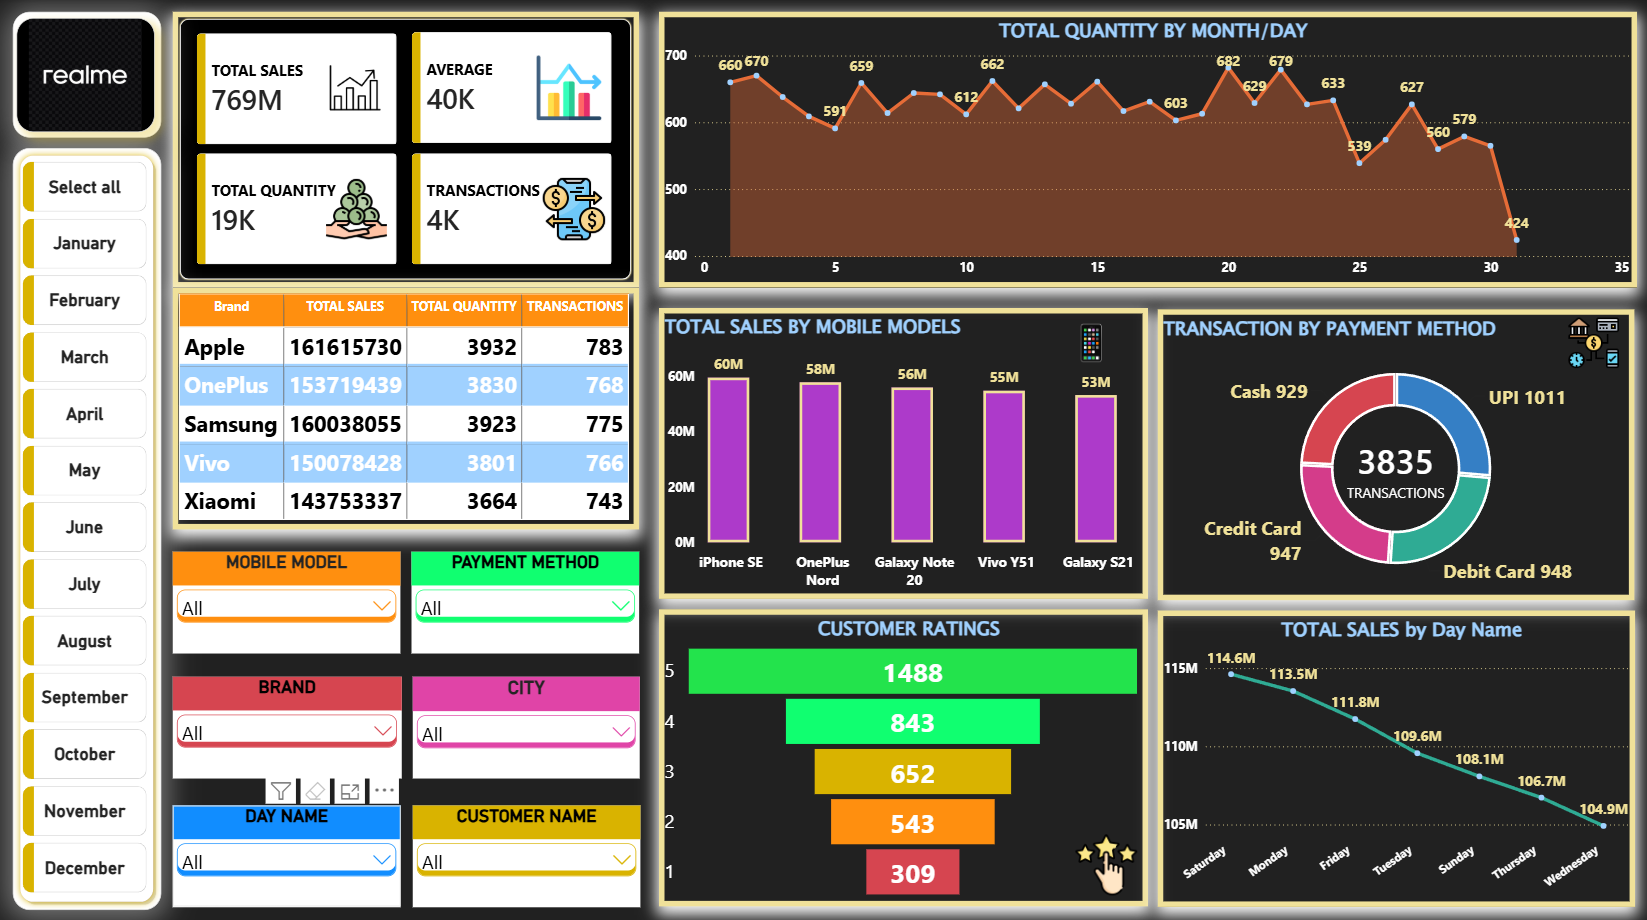

The dashboard page shown, as its layout file describes it:
{"tool":"powerbi","page":{"name":"Page 1","canvas":[1920,1080],"ordinal":0},"visuals":[{"type":"shape","box":[202.3,15.7,542.4,320.9],"z":0},{"type":"shape","box":[15.7,15.7,172.7,146.5],"z":1000},{"type":"shape","box":[15.7,174.4,172.7,886],"z":2000},{"type":"image","box":[20.9,22.7,160.5,132.6],"z":3000},{"type":"advancedSlicerVisual","fields":{"Values":["SALES_DATA.DATE.Variation.Date Hierarchy.Month"]},"box":[27.9,190.1,144.8,854.7],"z":4000},{"type":"cardVisual","fields":{"Data":["SALES_DATA.AVERAGE"]},"box":[476.2,34.9,242.4,139.5],"z":5000},{"type":"cardVisual","fields":{"Data":["SALES_DATA.TOTAL TRANSACTIONS"]},"box":[476.2,176.2,242.4,139.5],"z":6000},{"type":"cardVisual","fields":{"Data":["SALES_DATA.TOTAL QUANTITY"]},"box":[225,176.2,242.4,139.5],"z":7000},{"type":"cardVisual","fields":{"Data":["SALES_DATA.TOTAL SALES"]},"box":[225,36.6,242.4,139.5],"z":8000},{"type":"image","box":[624.4,66.3,78.5,75],"z":9000},{"type":"image","box":[376.7,207.6,78.5,75],"z":10000},{"type":"image","box":[629.7,207.6,78.5,75],"z":11000},{"type":"image","box":[375,66.3,78.5,75],"z":12000},{"type":"areaChart","title":"TOTAL QUANTITY  BY MONTH/DAY","fields":{"Category":["SALES_DATA.DATE.Variation.Date Hierarchy.Month","SALES_DATA.DATE.Variation.Date Hierarchy.Day"],"Y":["SALES_DATA.TOTAL QUANTITY"]},"box":[767.4,15.7,1137.2,320.9],"z":13000},{"type":"clusteredColumnChart","title":"TOTAL SALES BY MOBILE MODELS","fields":{"Category":["SALES_DATA.Mobile Model"],"Y":["SALES_DATA.TOTAL SALES"]},"box":[767.4,361,568.6,338.4],"z":14000},{"type":"donutChart","title":"TRANSACTION BY PAYMENT METHOD","fields":{"Category":["SALES_DATA.Payment Method"],"Y":["SALES_DATA.TRANSACTIONS"]},"box":[1348.4,361.7,554.7,338.4],"z":15000},{"type":"image","box":[1819.2,371,71.7,60.8],"z":16000},{"type":"image","box":[1214.4,371,112.2,60.8],"z":17000},{"type":"funnel","title":"CUSTOMER RATINGS","fields":{"Category":["SALES_DATA.Customer Ratings"],"Y":["CountNonNull(SALES_DATA.Customer Ratings)"]},"box":[767.4,711.6,568.6,345.3],"z":18000},{"type":"image","box":[1250.6,973.3,75,71.5],"z":19000},{"type":"areaChart","fields":{"Category":["SALES_DATA.Day Name"],"Y":["SALES_DATA.TOTAL SALES"]},"box":[1348,712,555,345],"z":20000},{"type":"tableEx","fields":{"Values":["SALES_DATA.Brand","SALES_DATA.TOTAL SALES","SALES_DATA.TOTAL QUANTITY","SALES_DATA.TRANSACTIONS"]},"box":[202.3,336.6,542.4,280.8],"z":21000},{"type":"slicer","title":"MOBILE MODEL","fields":{"Values":["SALES_DATA.Mobile Model"]},"box":[202.3,643.6,265.1,118.6],"z":22000},{"type":"slicer","title":"PAYMENT METHOD","fields":{"Values":["SALES_DATA.Payment Method"]},"box":[479.7,643.6,265.1,118.6],"z":23000},{"type":"slicer","title":"CITY","fields":{"Values":["SALES_DATA.City"]},"box":[480.6,789.2,264.3,118.3],"z":24000},{"type":"slicer","title":"BRAND","fields":{"Values":["SALES_DATA.Brand"]},"box":[201.5,789.2,266.2,118.3],"z":25000},{"type":"slicer","title":"DAY NAME","fields":{"Values":["SALES_DATA.Day Name"]},"box":[201.5,938.9,265.1,118.6],"z":26000},{"type":"slicer","title":"CUSTOMER NAME","fields":{"Values":["SALES_DATA.Customer Name"]},"box":[480.6,938.9,265.1,118.6],"z":27000}]}

Visuals, with their boxes in screenshot pixels (x1, y1, x2, y2), scaled from the page's 1920x1080 canvas onto the 1647x920 screenshot:
shape: 174/13/639/287
shape: 13/13/162/138
shape: 13/149/162/903
image: 18/19/156/132
advancedSlicerVisual - SALES_DATA.DATE.Variation.Date Hierarchy.Month: 24/162/148/890
cardVisual - SALES_DATA.AVERAGE: 408/30/616/149
cardVisual - SALES_DATA.TOTAL TRANSACTIONS: 408/150/616/269
cardVisual - SALES_DATA.TOTAL QUANTITY: 193/150/401/269
cardVisual - SALES_DATA.TOTAL SALES: 193/31/401/150
image: 536/56/603/120
image: 323/177/390/241
image: 540/177/608/241
image: 322/56/389/120
"TOTAL QUANTITY  BY MONTH/DAY" areaChart: 658/13/1634/287
"TOTAL SALES BY MOBILE MODELS" clusteredColumnChart: 658/308/1146/596
"TRANSACTION BY PAYMENT METHOD" donutChart: 1157/308/1633/596
image: 1561/316/1622/368
image: 1042/316/1138/368
"CUSTOMER RATINGS" funnel: 658/606/1146/900
image: 1073/829/1137/890
areaChart - SALES_DATA.Day Name x SALES_DATA.TOTAL SALES: 1156/607/1632/900
tableEx - SALES_DATA.Brand x SALES_DATA.TOTAL SALES: 174/287/639/526
"MOBILE MODEL" slicer: 174/548/401/649
"PAYMENT METHOD" slicer: 411/548/639/649
"CITY" slicer: 412/672/639/773
"BRAND" slicer: 173/672/401/773
"DAY NAME" slicer: 173/800/400/901
"CUSTOMER NAME" slicer: 412/800/640/901
